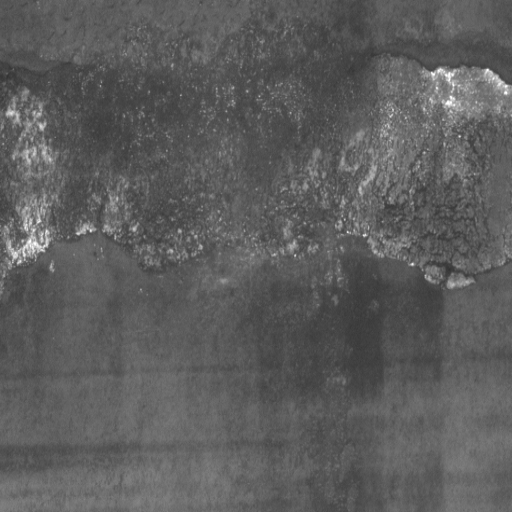qiaopi: (334, 50, 512, 290)
